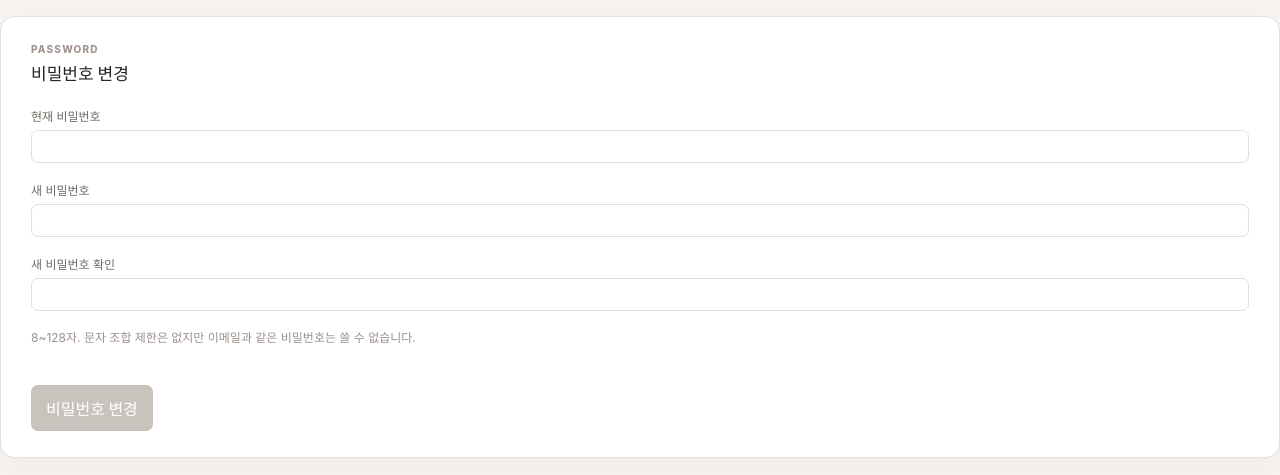
Test: PasswordChangeForm › 현재 비밀번호와 정책에 맞는 새 비밀번호·일치하는 확인이 있어야 변경할 수 있다
Expected: the button "비밀번호 변경" is disabled, 31,385 -> 153,431
Type "new-password-1" into the password field labelled "새 비밀번호".
click(640, 220); type("new-password-1")  # box 31,204 -> 1249,237
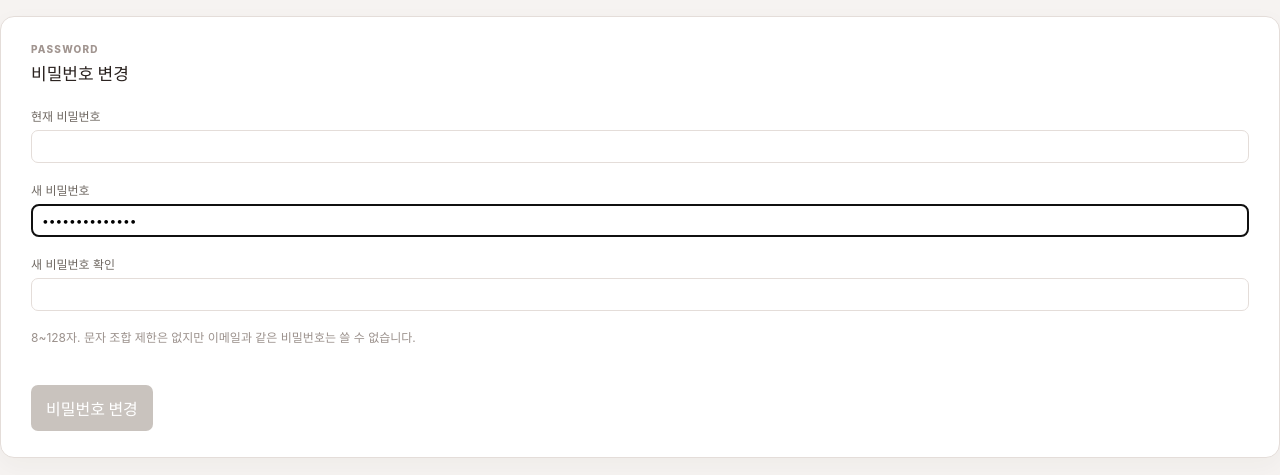
Type "new-password-1" into the password field labelled "새 비밀번호 확인".
click(640, 294); type("new-password-1")  # box 31,278 -> 1249,311
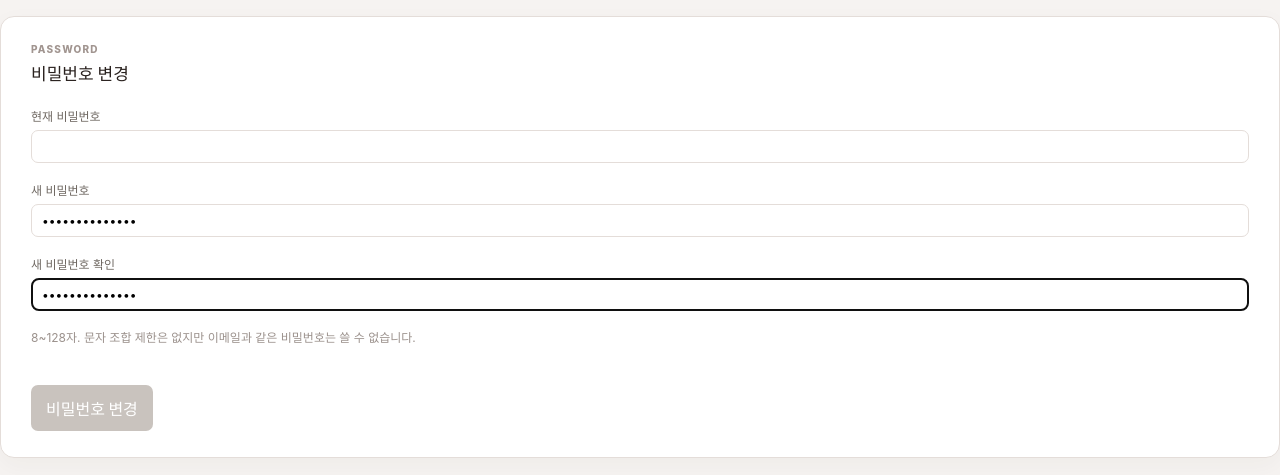
Expected: the button "비밀번호 변경" is disabled, 31,385 -> 153,431
Type "old-password-1" into the password field labelled "현재 비밀번호".
click(640, 146); type("old-password-1")  # box 31,130 -> 1249,163
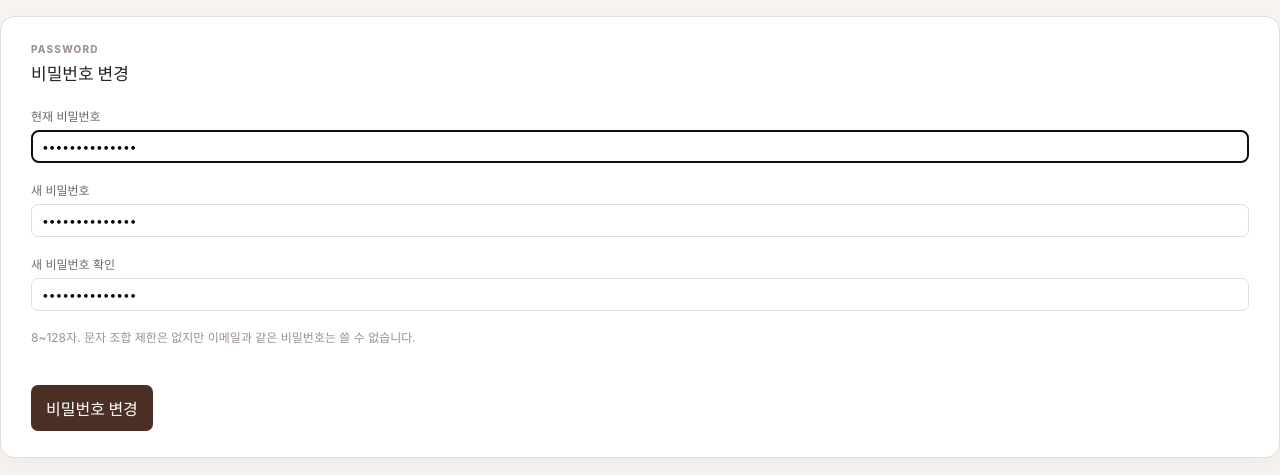
Expected: the button "비밀번호 변경" is enabled, 31,385 -> 153,431
